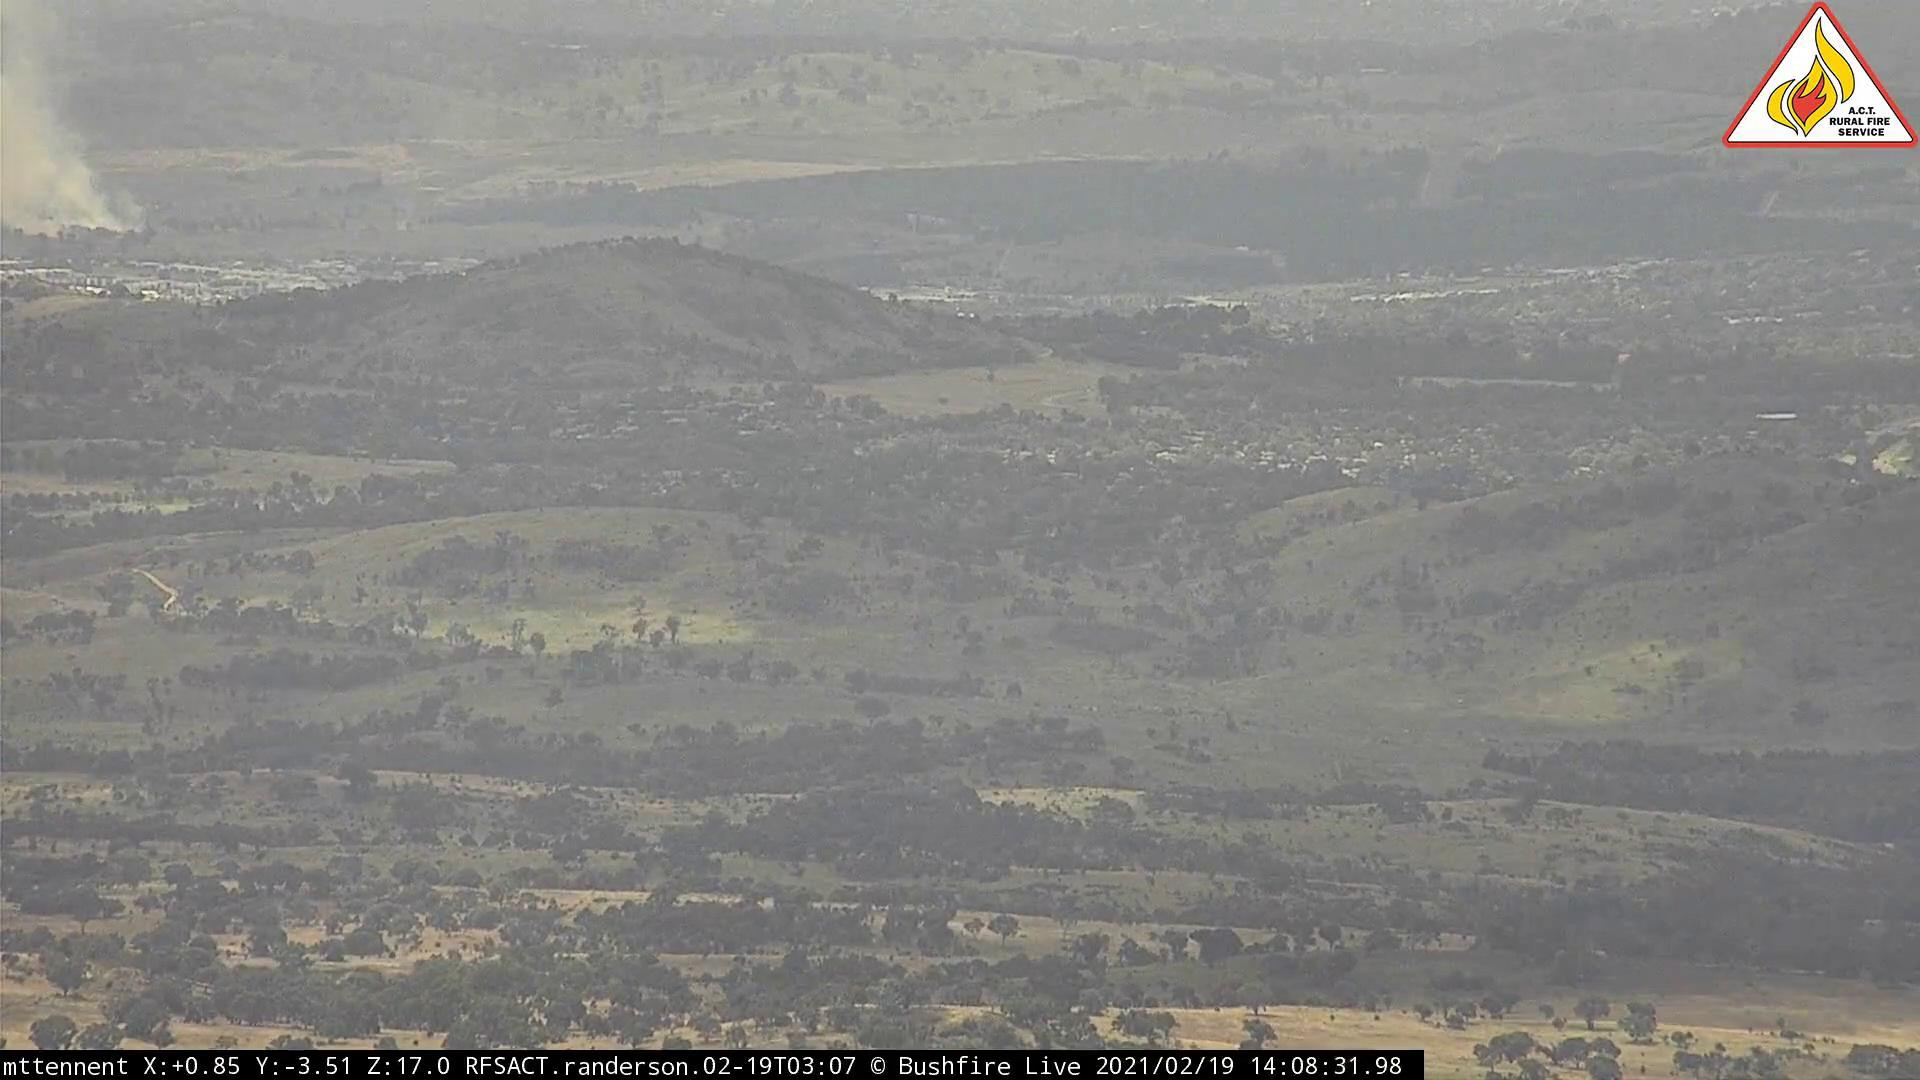Smoke: (3, 3, 167, 255)
